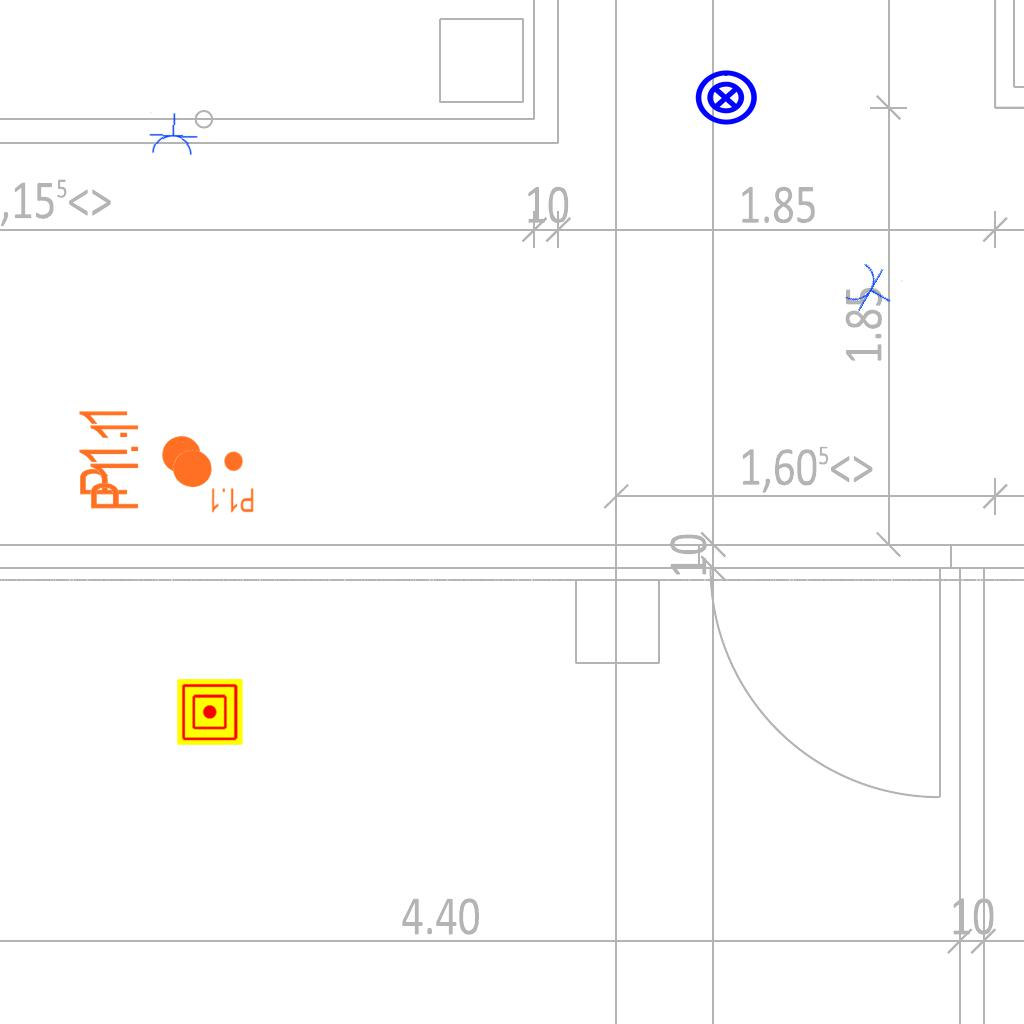Downlight_LED_Einbauleuchten_Flur: (76, 405, 204, 498), (87, 419, 215, 512), (209, 450, 255, 514)
NAM-Nichtautomatischer_Melder: (177, 679, 243, 745)
Schukosteckdose_einfach: (840, 258, 904, 323), (146, 111, 200, 158)
Taster_beleuchtet: (693, 65, 759, 131)
